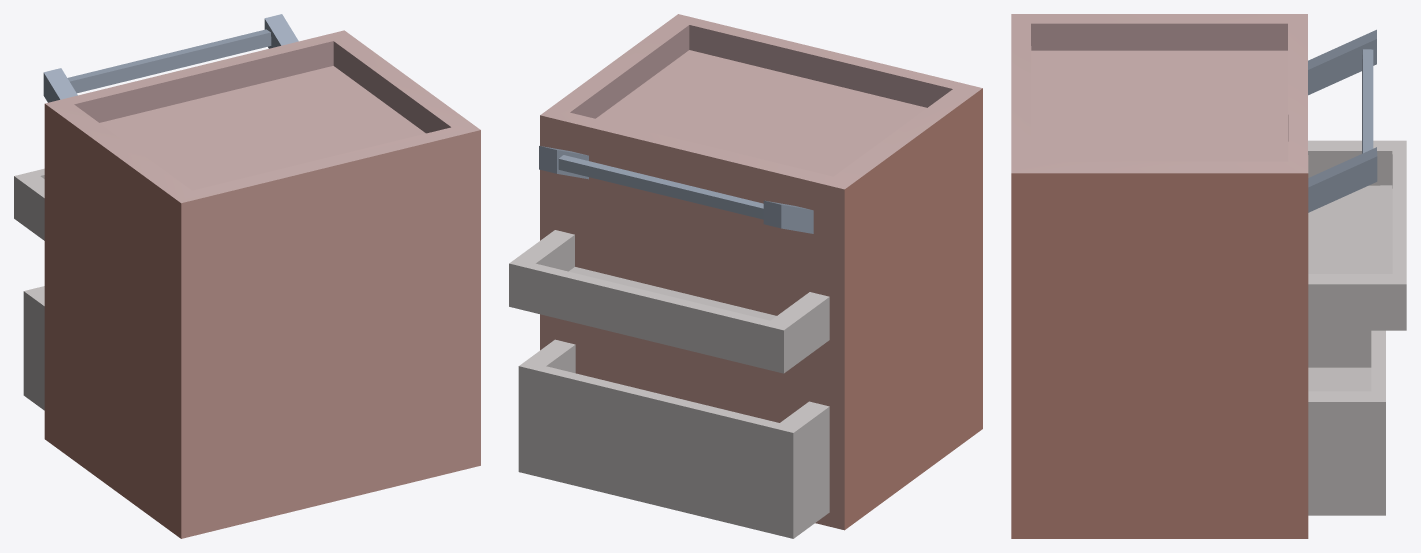
Rendered from furniture_01.glb.
3 views of the same model, side by side, from view 1: azimuth 30°, elevation 25°; view 2: azimuth 150°, elevation 25°; view 3: azimuth 270°, elevation 25° (orthographic). The views are drawn at different scales.
Visible parts, largest first — view 1: furniture_01; view 2: furniture_01; view 3: furniture_01.
Part boxes in pixels (x1,y1,x2,y2): furniture_01: (14,14,480,538); furniture_01: (509,14,982,538); furniture_01: (1011,14,1406,538).
Size of the model in its own units: 0.6543 by 0.7016 by 0.6862.
